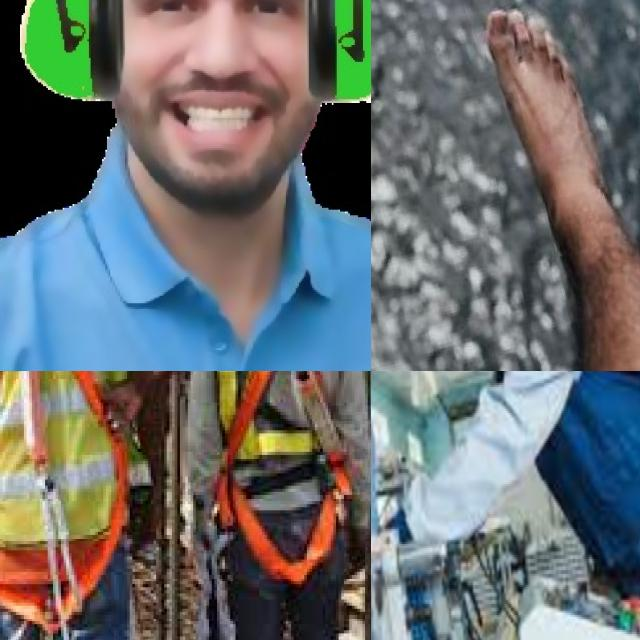Barefoots: (472, 0, 640, 267)
Ear-protection: (15, 0, 371, 120)
Harness: (0, 371, 134, 628), (208, 371, 356, 583)
